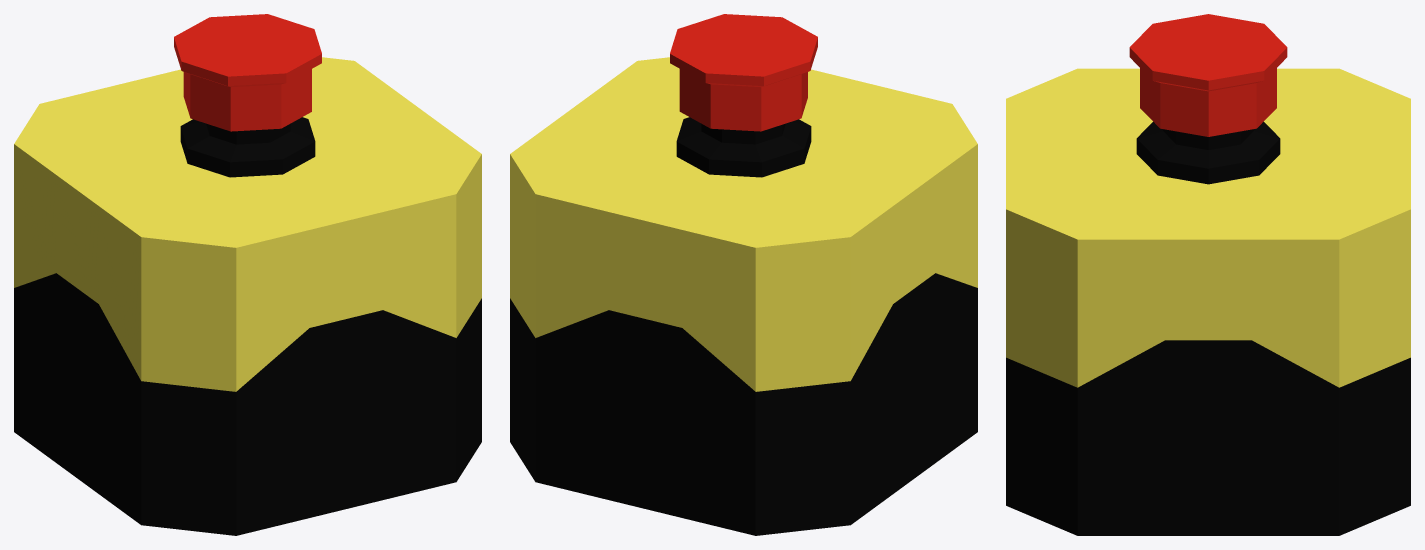
Rendered from boton.fbx.
3 renders of one model, left to right at view 1: azimuth 30°, elevation 25°; view 2: azimuth 150°, elevation 25°; view 3: azimuth 270°, elevation 25°, orthographic. The views are drawn at different scales.
Visible parts, largest first — view 1: Boton; view 2: Boton; view 3: Boton.
Part boxes in pixels (left/top/right/bottom): Boton: left=14, top=14, right=481, bottom=535; Boton: left=510, top=14, right=977, bottom=535; Boton: left=1006, top=14, right=1410, bottom=535.
Bounding box in the file's own units: 200 × 220 × 200.
